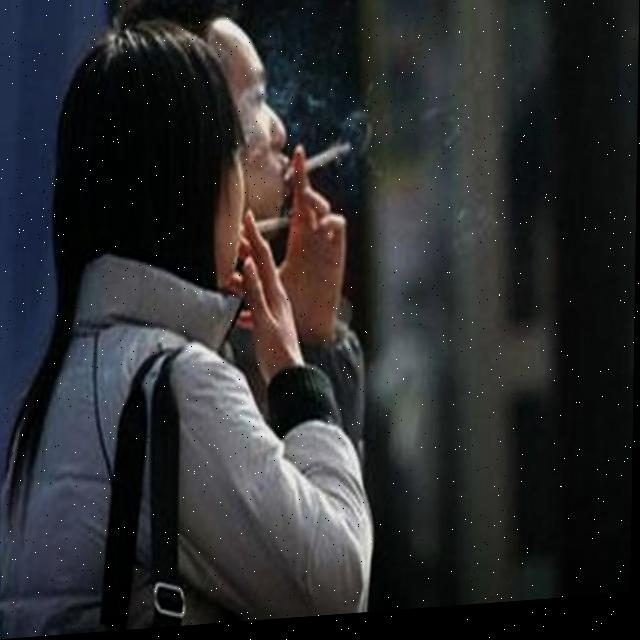cigarette: (287, 143, 349, 184), (242, 220, 292, 241)
